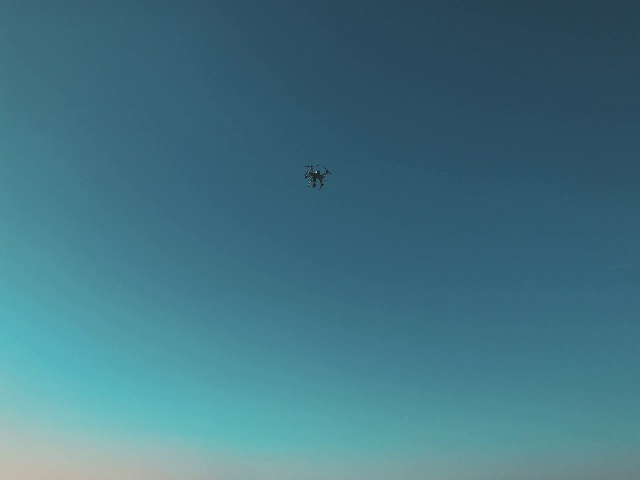drone: (302, 164, 333, 191)
